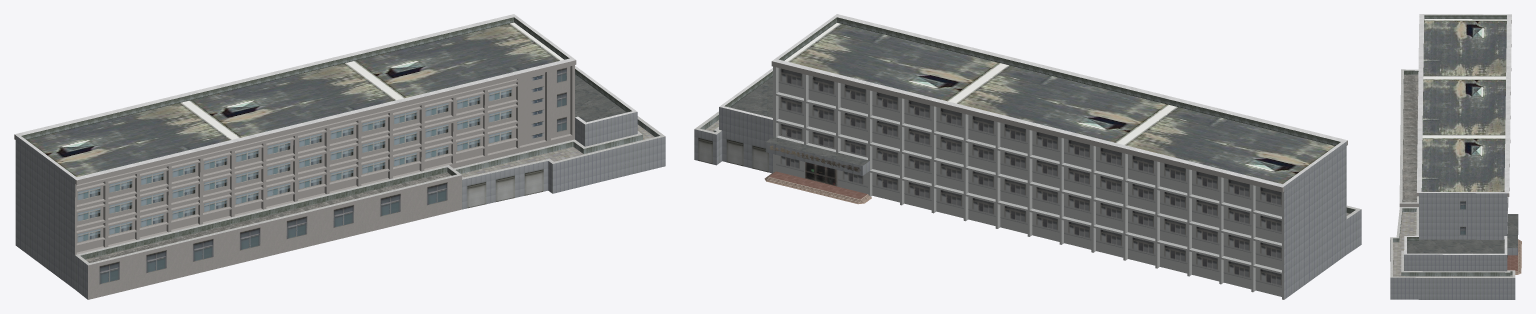
3 views of the same model, side by side, from view 1: azimuth 30°, elevation 25°; view 2: azimuth 150°, elevation 25°; view 3: azimuth 270°, elevation 25° (orthographic). The views are drawn at different scales.
Visible parts, largest first — view 1: jz26; view 2: jz26; view 3: jz26.
Boxes of the visible parts, left/top/right/bottom form: jz26: left=14, top=14, right=665, bottom=299; jz26: left=694, top=14, right=1361, bottom=299; jz26: left=1390, top=14, right=1521, bottom=299.
Bounding box in the file's own units: 6880 × 1270 × 1868.
Materials: 21 (21 with a texture image).
